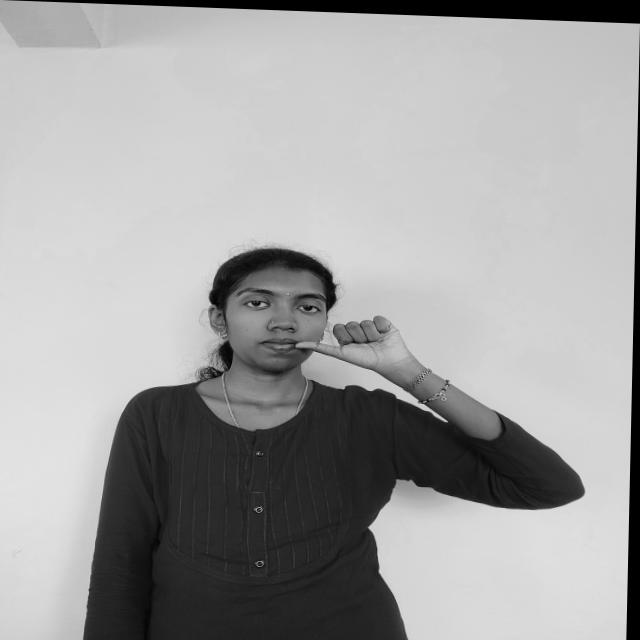Drink: (294, 306, 423, 375)
